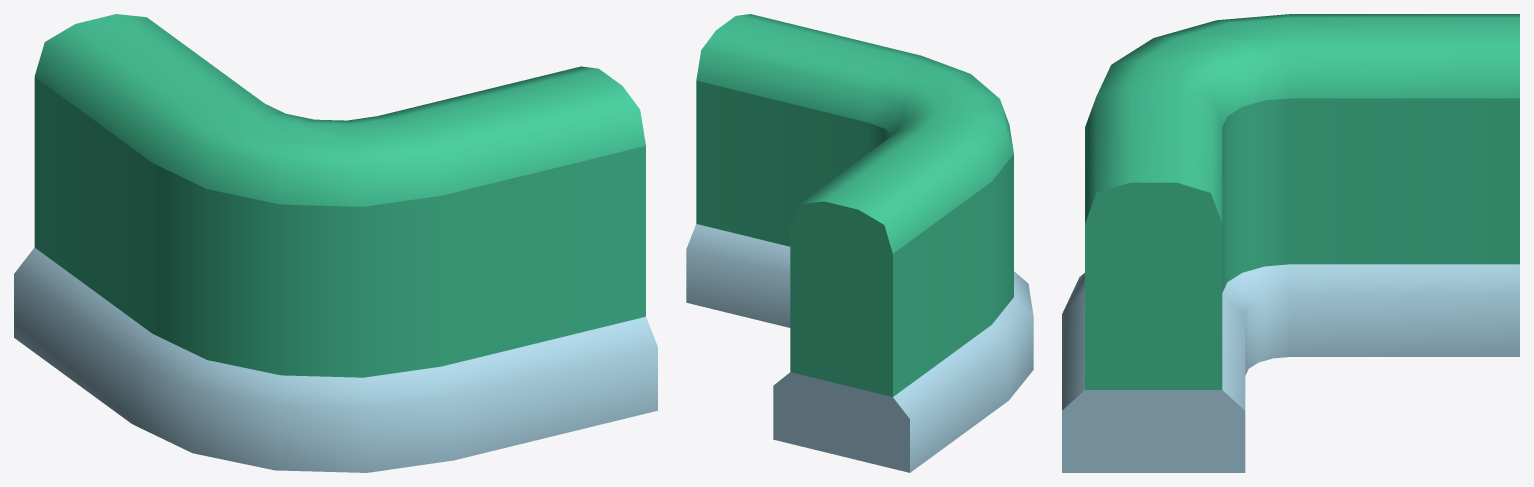
File: hedgeLargeCurved.glb
3 renders of one model, left to right at view 1: azimuth 30°, elevation 25°; view 2: azimuth 150°, elevation 25°; view 3: azimuth 270°, elevation 25°, orthographic. The views are drawn at different scales.
Visible parts, largest first — view 1: hedgeLargeCurved; view 2: hedgeLargeCurved; view 3: hedgeLargeCurved.
Boxes of the visible parts, box(x1,y1,x2,y2) form: hedgeLargeCurved: box(14, 14, 657, 472); hedgeLargeCurved: box(686, 14, 1033, 472); hedgeLargeCurved: box(1062, 14, 1519, 472).
Size of the model in its own units: 1 by 0.7 by 1.
